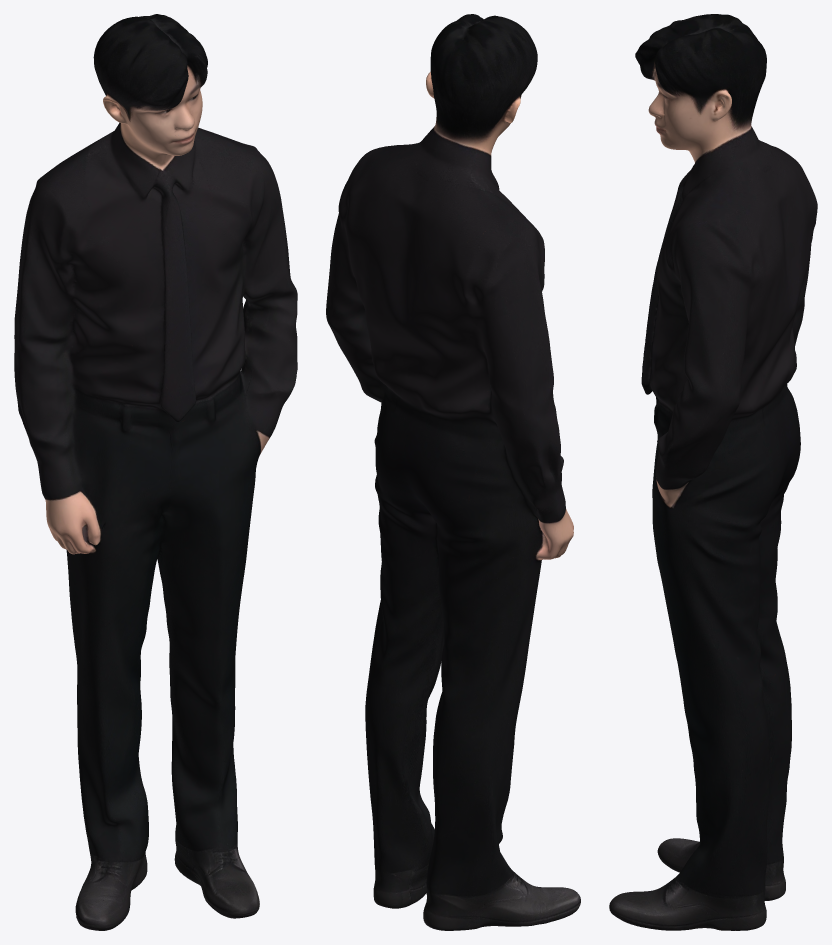
3 views of the same model, side by side, from view 1: azimuth 30°, elevation 25°; view 2: azimuth 150°, elevation 25°; view 3: azimuth 270°, elevation 25° (orthographic).
Parts seen in each view (by area): view 1: Object_5, Object_6; view 2: Object_5, Object_6; view 3: Object_5, Object_6.
Boxes of the visible parts, <box> form: Object_5: <box>14,14,297,930</box>; Object_6: <box>47,18,297,930</box>; Object_5: <box>326,14,580,930</box>; Object_6: <box>351,14,579,925</box>; Object_5: <box>609,14,817,930</box>; Object_6: <box>646,21,730,928</box>.
Bounding box in the file's own units: 0.5616 × 1.9 × 0.4108.
Materials: 1 (1 with a texture image).
